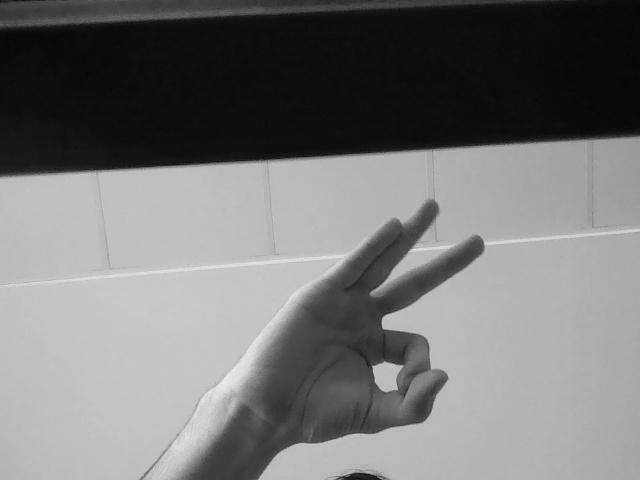OK: (286, 210, 507, 438)
